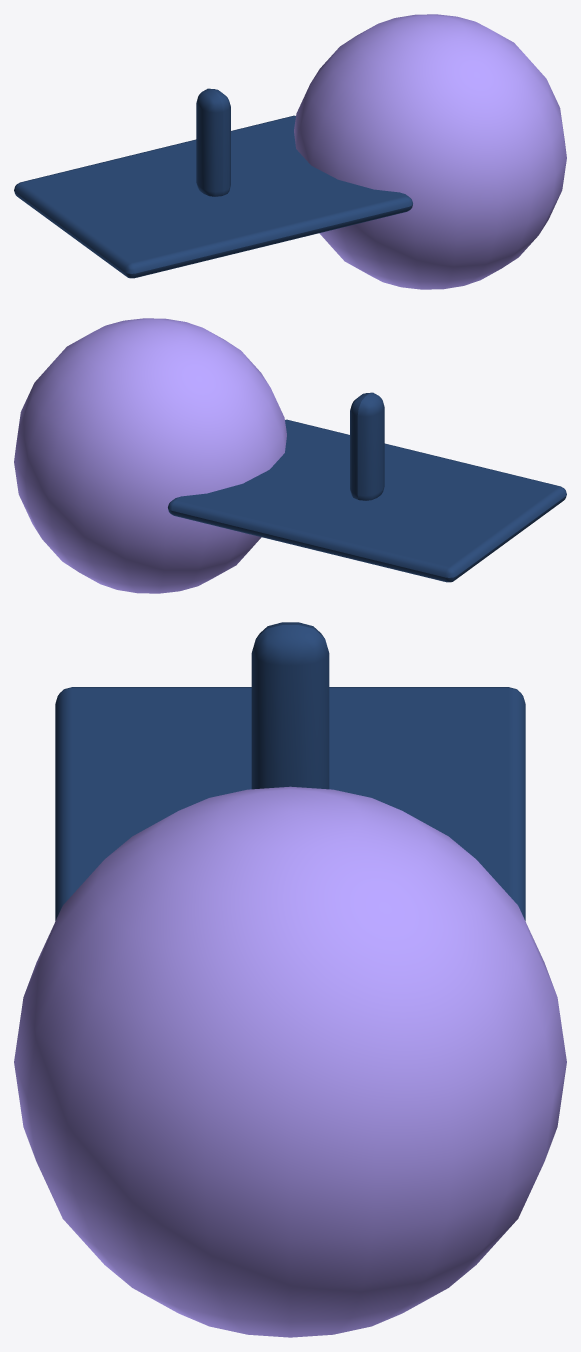
File: projectile-motion.glb
The picture shows the model from 3 angles, top to bottom: view 1: azimuth 30°, elevation 25°; view 2: azimuth 150°, elevation 25°; view 3: azimuth 270°, elevation 25°; orthographic projection. The views are drawn at different scales.
Visible parts, largest first — view 1: ApexMarker, LaunchPlatform, LaunchPost; view 2: ApexMarker, LaunchPlatform, LaunchPost; view 3: ApexMarker, LaunchPlatform, LaunchPost.
Part boxes in pixels (box(x1,y1,x2,y2)): ApexMarker: box(294, 14, 566, 289); LaunchPlatform: box(14, 115, 412, 278); LaunchPost: box(196, 88, 230, 196); ApexMarker: box(14, 318, 286, 593); LaunchPlatform: box(168, 419, 566, 582); LaunchPost: box(350, 392, 384, 500); ApexMarker: box(14, 786, 566, 1337); LaunchPlatform: box(55, 687, 525, 920); LaunchPost: box(251, 622, 329, 789).
Size of what is drawn, in the model's own units: 4 by 2 by 2.
